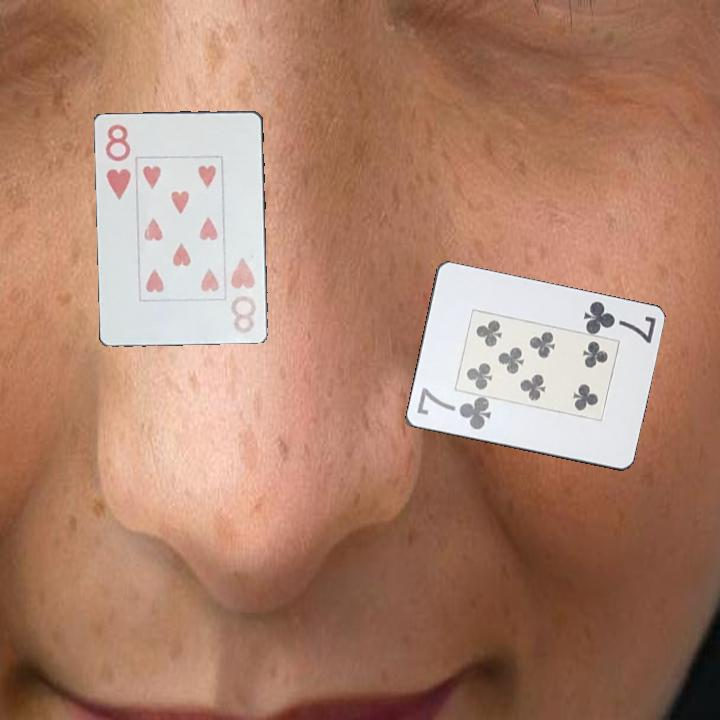7c: (413, 385, 494, 433), (580, 298, 659, 347)
8h: (101, 120, 134, 202), (227, 254, 259, 336)
